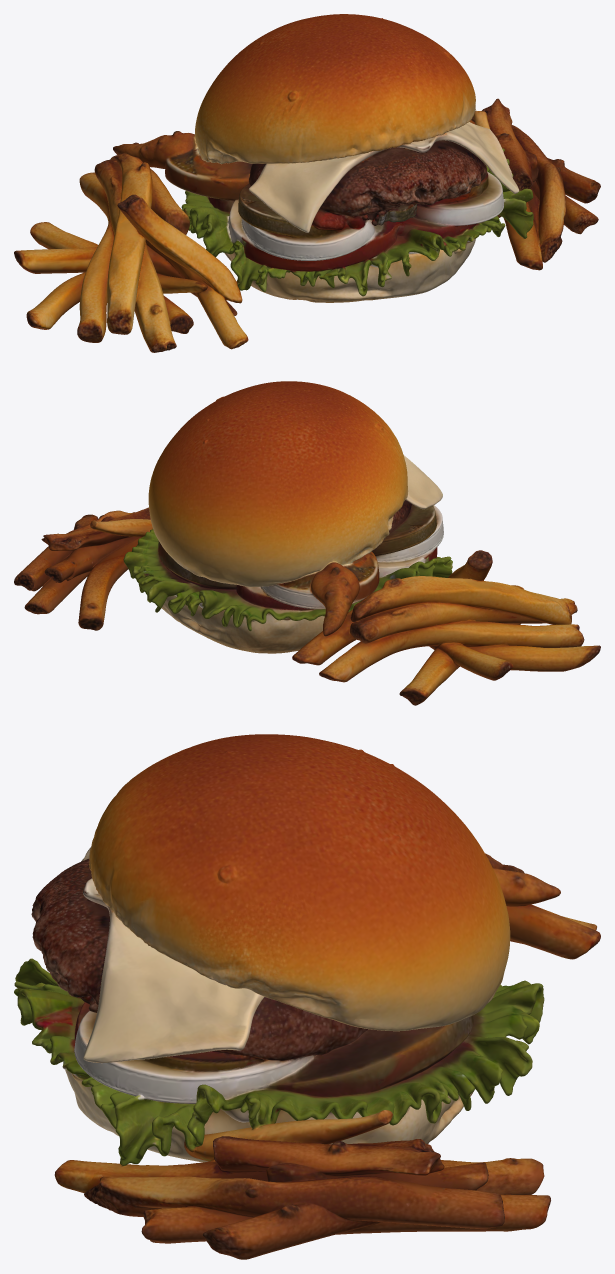
File: classic+3d+model.glb
3 views of the same model, one above another, from view 1: azimuth 30°, elevation 25°; view 2: azimuth 150°, elevation 25°; view 3: azimuth 270°, elevation 25° (orthographic). The views are drawn at different scales.
Parts seen in each view (by area): view 1: tripo_node_48127fce-8954-41d5-ad32-f46dd9498675; view 2: tripo_node_48127fce-8954-41d5-ad32-f46dd9498675; view 3: tripo_node_48127fce-8954-41d5-ad32-f46dd9498675.
Boxes of the visible parts, x1,y1,x2,y2 form: tripo_node_48127fce-8954-41d5-ad32-f46dd9498675: [14, 14, 600, 352]; tripo_node_48127fce-8954-41d5-ad32-f46dd9498675: [14, 381, 600, 705]; tripo_node_48127fce-8954-41d5-ad32-f46dd9498675: [14, 734, 600, 1259].
Size of the model in its own units: 0.9782 by 0.3721 by 0.5762.
Materials: 1 (1 with a texture image).
